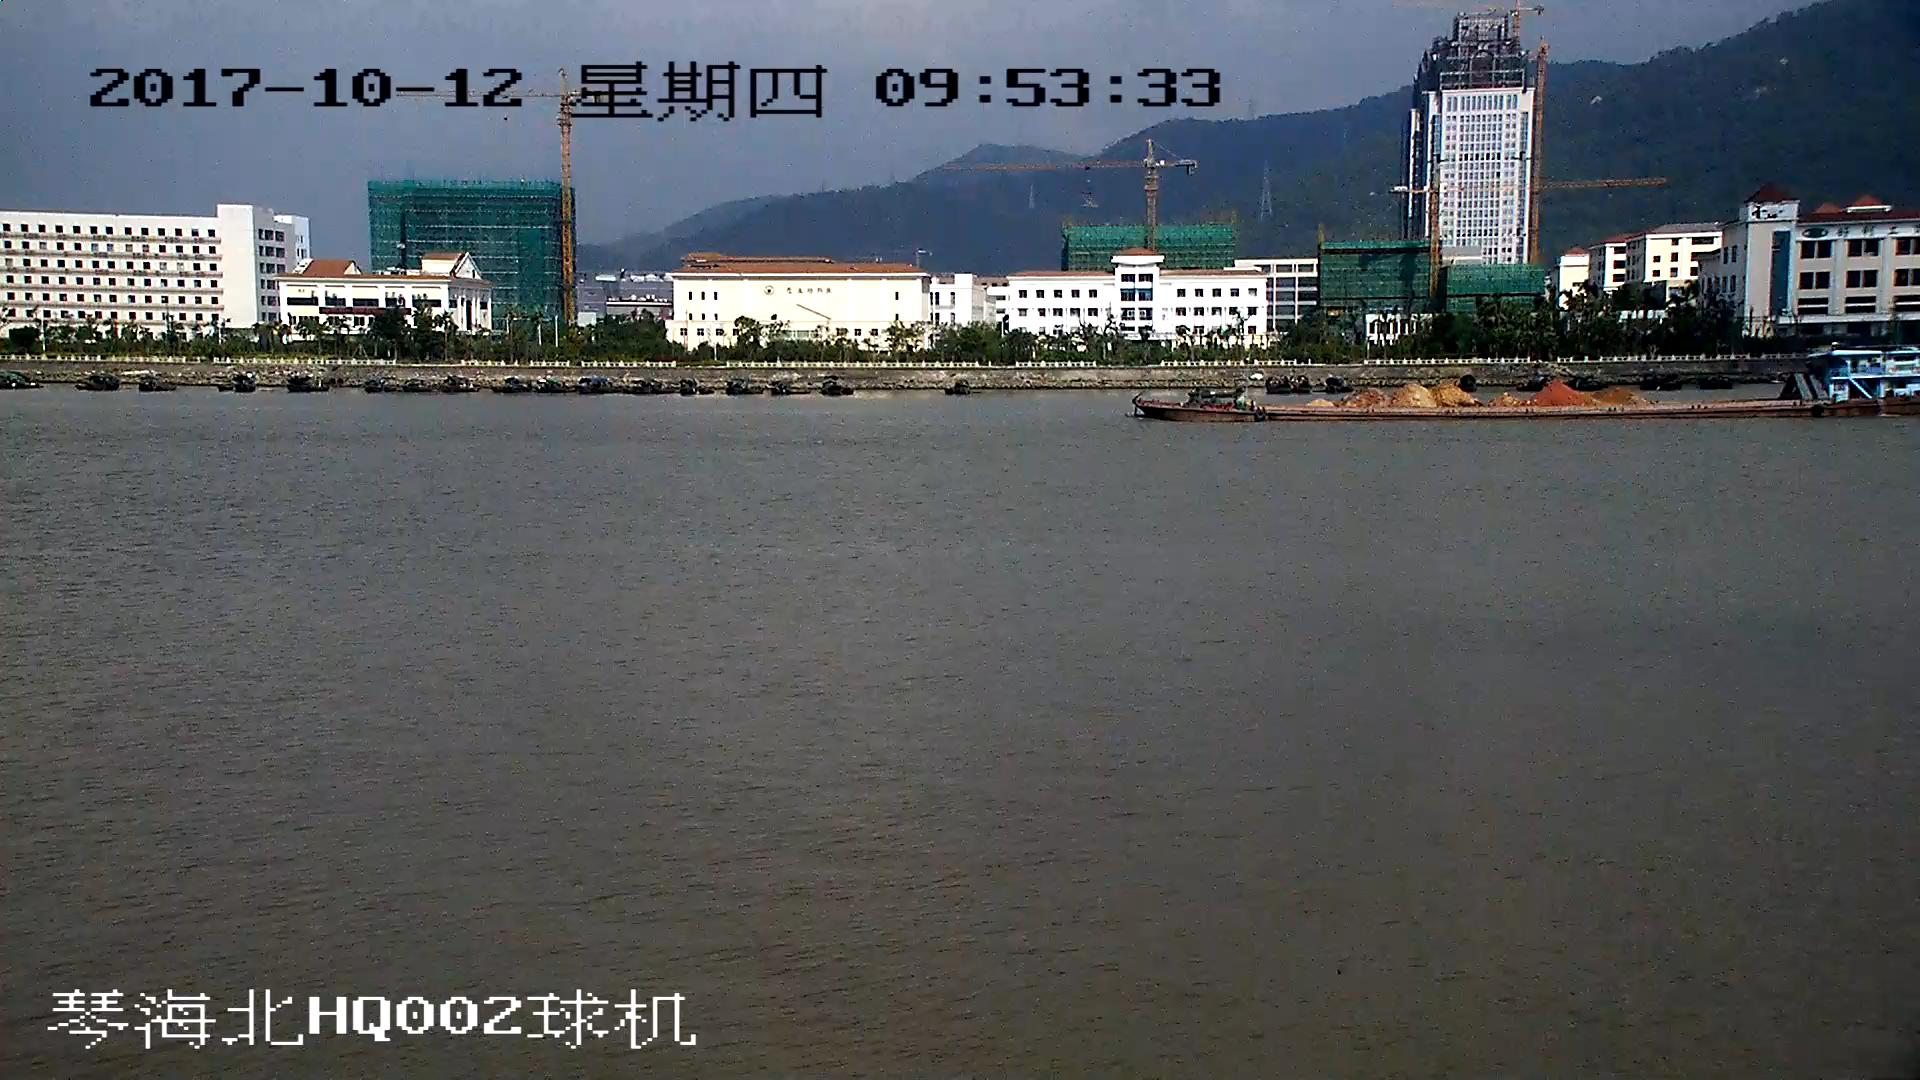ore carrier: (1139, 351, 1920, 416)
